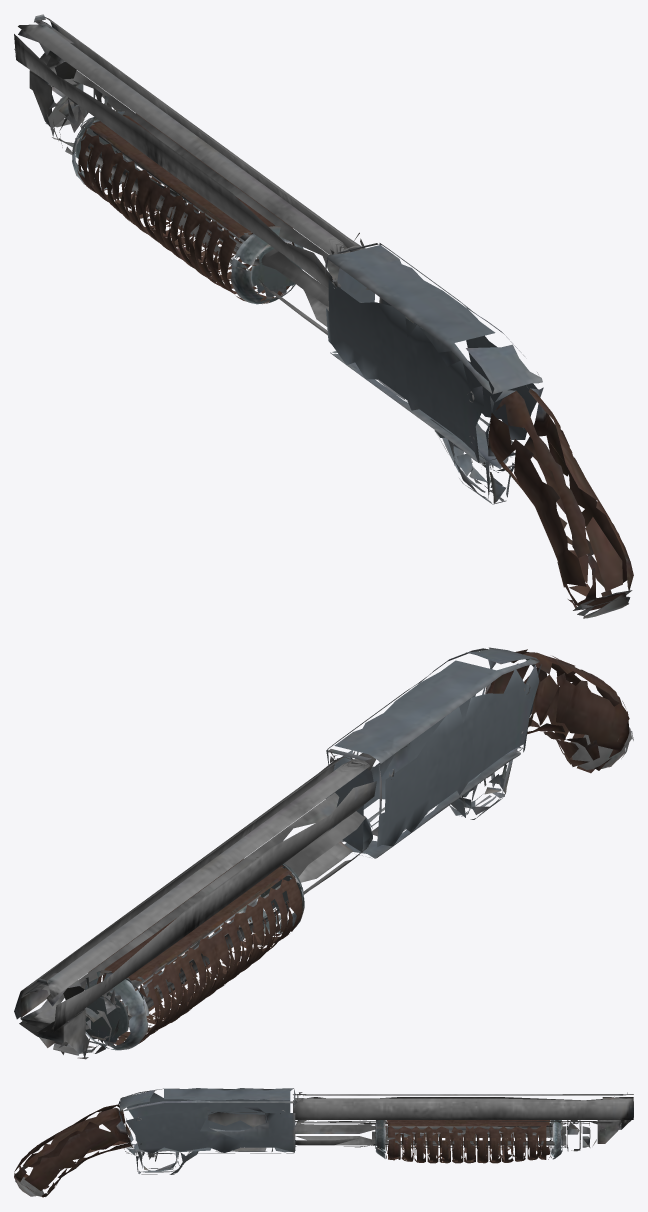
Rendered from g_sawedoff_lo.glb.
3 renders of one model, top to bottom at view 1: azimuth 30°, elevation 25°; view 2: azimuth 150°, elevation 25°; view 3: azimuth 270°, elevation 25°, orthographic. The views are drawn at different scales.
Visible parts, largest first — view 1: merged; view 2: merged; view 3: merged.
Part boxes in pixels (<box>): merged: <box>14,14,633,618</box>; merged: <box>14,647,633,1059</box>; merged: <box>14,1088,633,1197</box>.
Bounding box in the file's own units: 0.0611 × 0.1523 × 0.8174.
Materials: 2 (2 with a texture image).
